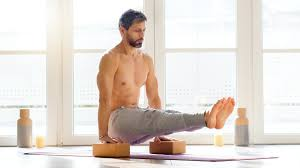person: (96, 8, 243, 140)
